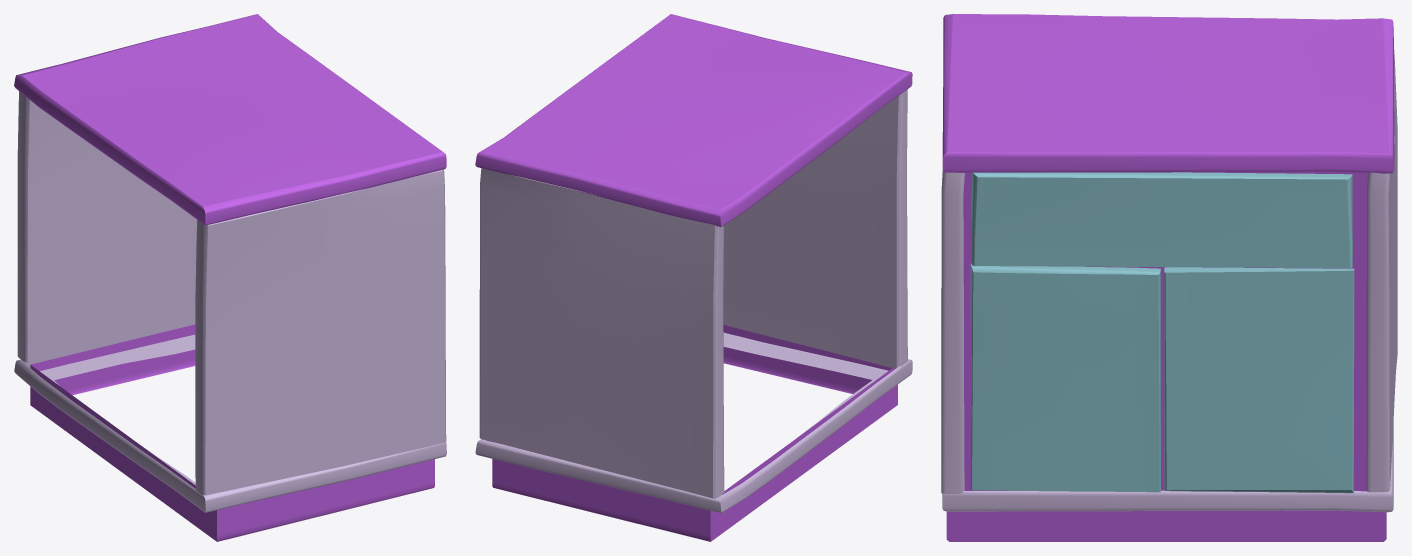
File: Friday_KitchenCounter_V2.fbx
3 renders of one model, left to right at view 1: azimuth 30°, elevation 25°; view 2: azimuth 150°, elevation 25°; view 3: azimuth 270°, elevation 25°, orthographic. The views are drawn at different scales.
Parts seen in each view (by area): view 1: Cabinet, Part2; view 2: Cabinet, Part2; view 3: Cabinet_doors, Part2, Cabinet.
Boxes of the visible parts, x1=… form: Cabinet: x1=14, y1=91, x2=446, y2=512; Part2: x1=14, y1=14, x2=446, y2=541; Cabinet: x1=475, y1=89, x2=912, y2=513; Part2: x1=475, y1=14, x2=912, y2=541; Cabinet_doors: x1=970, y1=172, x2=1354, y2=493; Part2: x1=942, y1=14, x2=1394, y2=541; Cabinet: x1=941, y1=49, x2=1397, y2=512.
Bounding box in the file's own units: 61.63 × 80.6 × 83.78.
